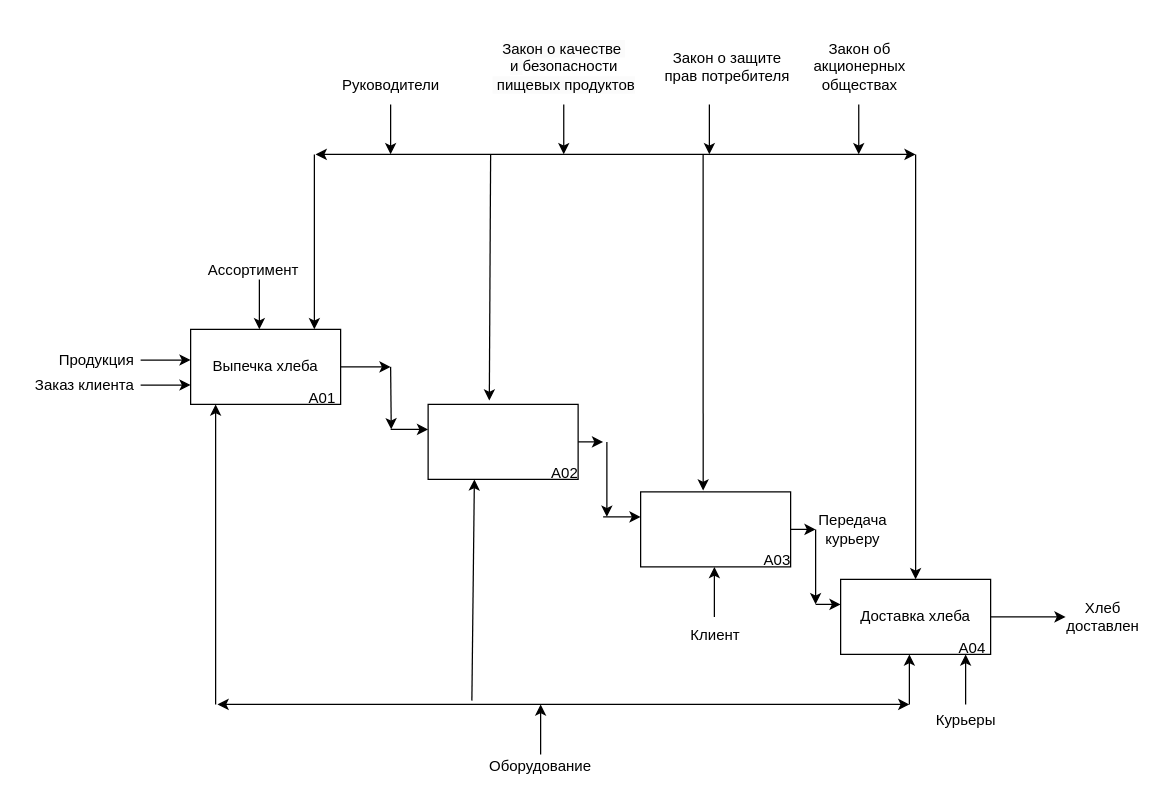
The diagram is 1161 pixels wide and 806 high, and some of its shapes have lost their labels. The shapes that lost their labels are listed below. From the top down, each one's box as (x1, y1, x2, y2) in pixels, then its label:
(427, 403, 578, 479): Актуализация наличия продукции
(639, 491, 791, 567): Оформление заказа
